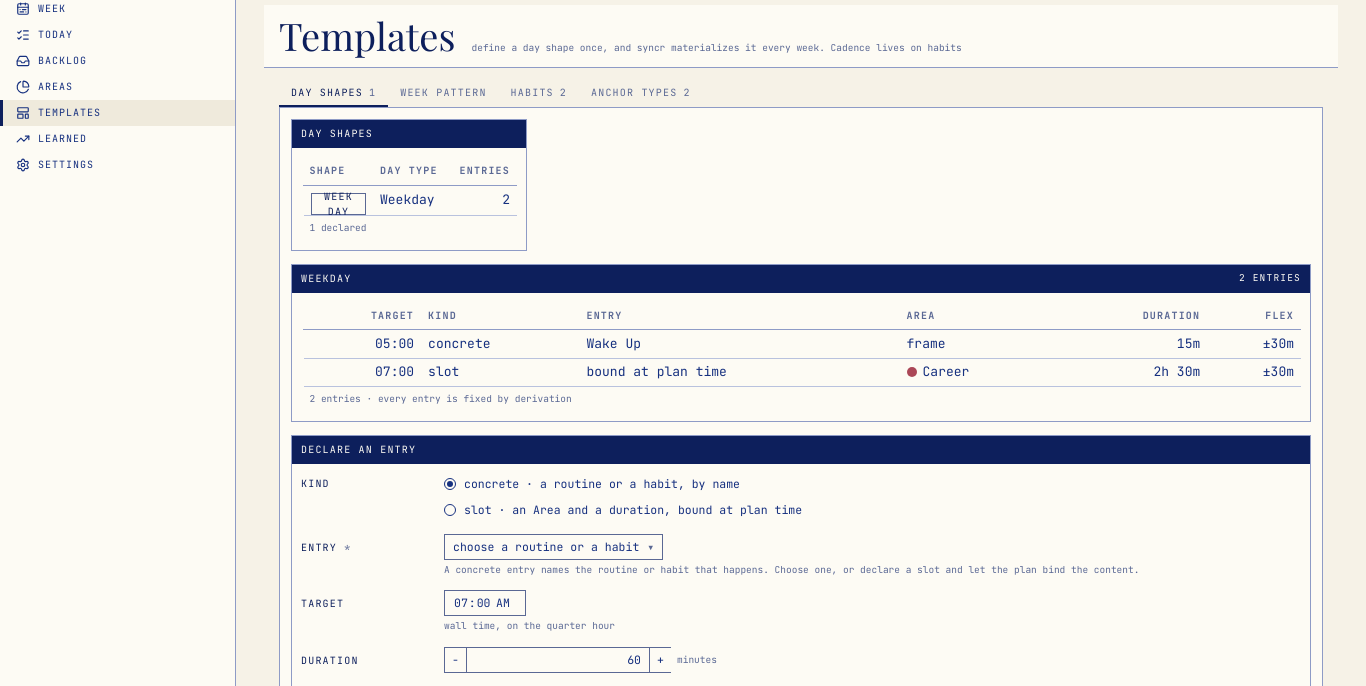
it: the templates route › shows the rules and the commitments they type once the anchor types tab is chosen
The image size is (1366, 686).
Click the tab "Anchor types2" at (641, 94), box [579,81,703,107]
(page scrolled)
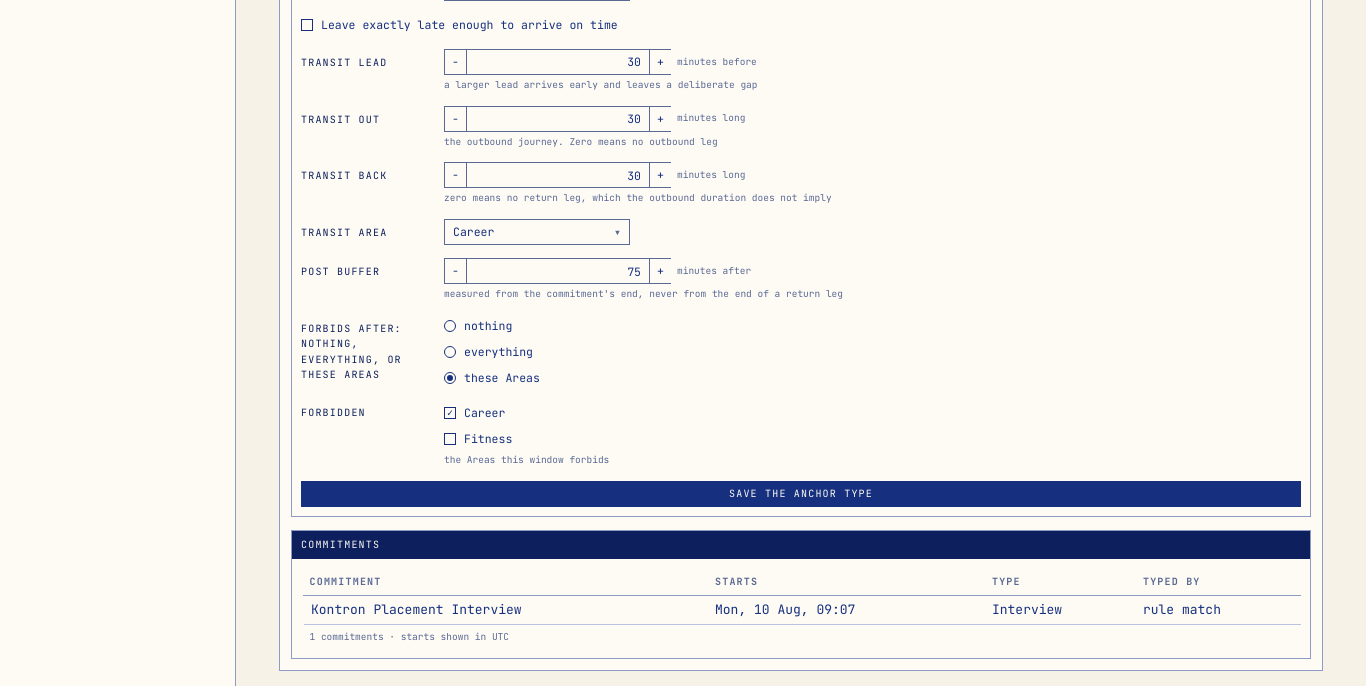
Expected: the table named "commitments these rules" shows "Kontron Placement Interview", [311,601,522,618]
